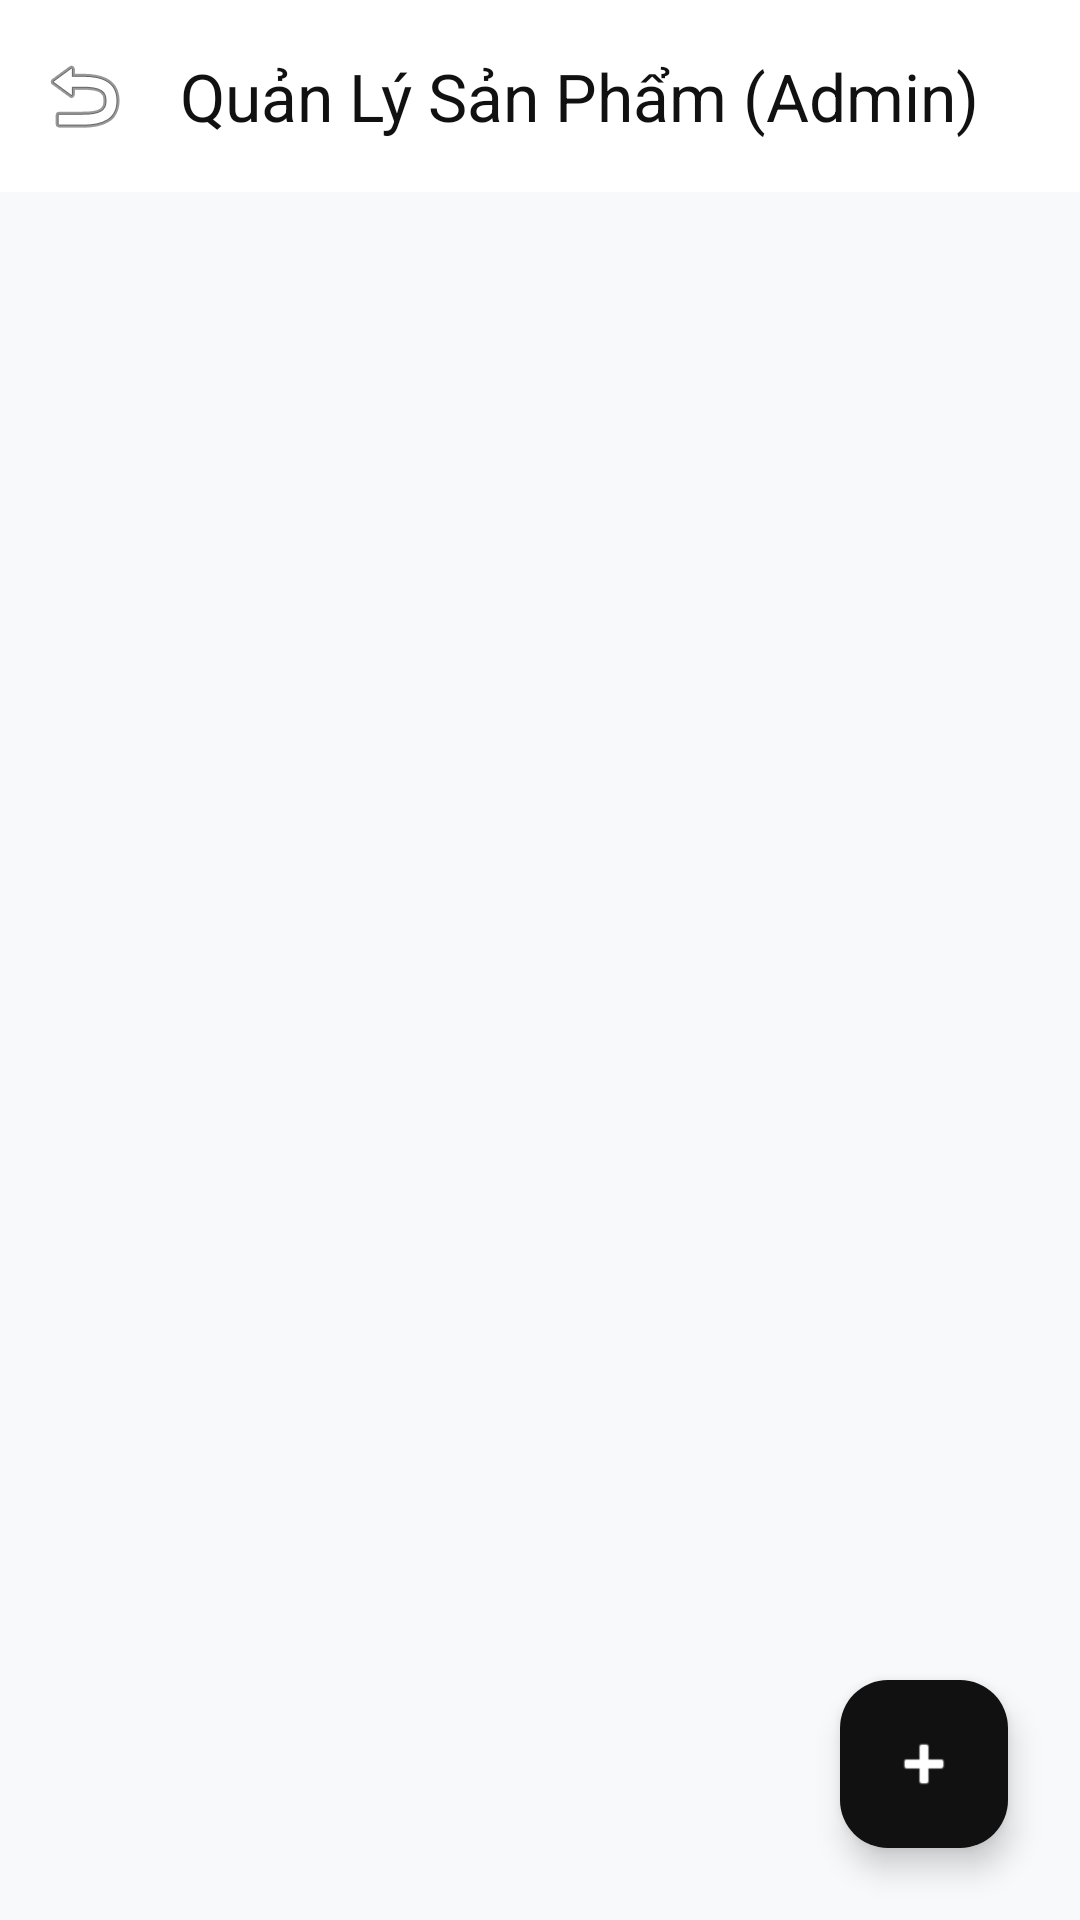

Named icons in this screenshot (1080×1920) and their bounding boxes, (x1, y1, x2, y2):
Thêm sản phẩm: (840, 1680, 1008, 1848)
